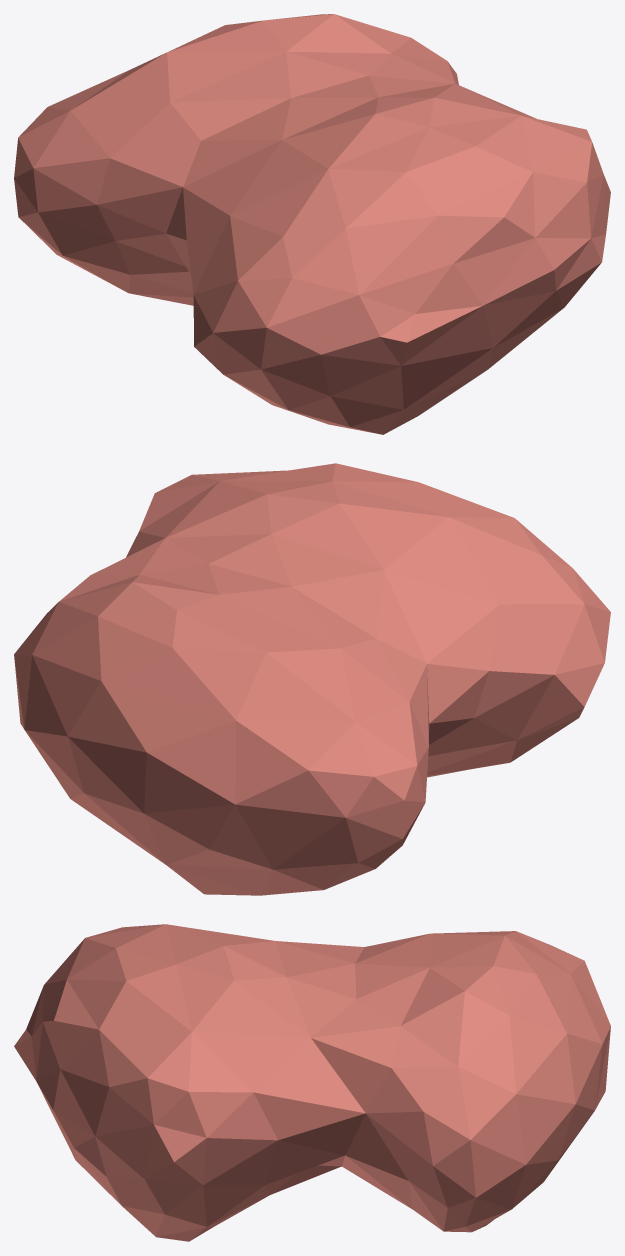
3 views of the same model, one above another, from view 1: azimuth 30°, elevation 25°; view 2: azimuth 150°, elevation 25°; view 3: azimuth 270°, elevation 25° (orthographic). The views are drawn at different scales.
Parts seen in each view (by area): view 1: 286.obj; view 2: 286.obj; view 3: 286.obj.
Boxes of the visible parts, x1,y1,x2,y2 form: 286.obj: [14, 14, 610, 434]; 286.obj: [14, 463, 610, 895]; 286.obj: [14, 924, 610, 1241].
Bounding box in the file's own units: 489 × 315 × 593.
